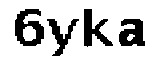6: (11, 2, 47, 51)
a: (116, 14, 148, 52)
k: (79, 3, 116, 56)
y: (47, 16, 80, 60)
